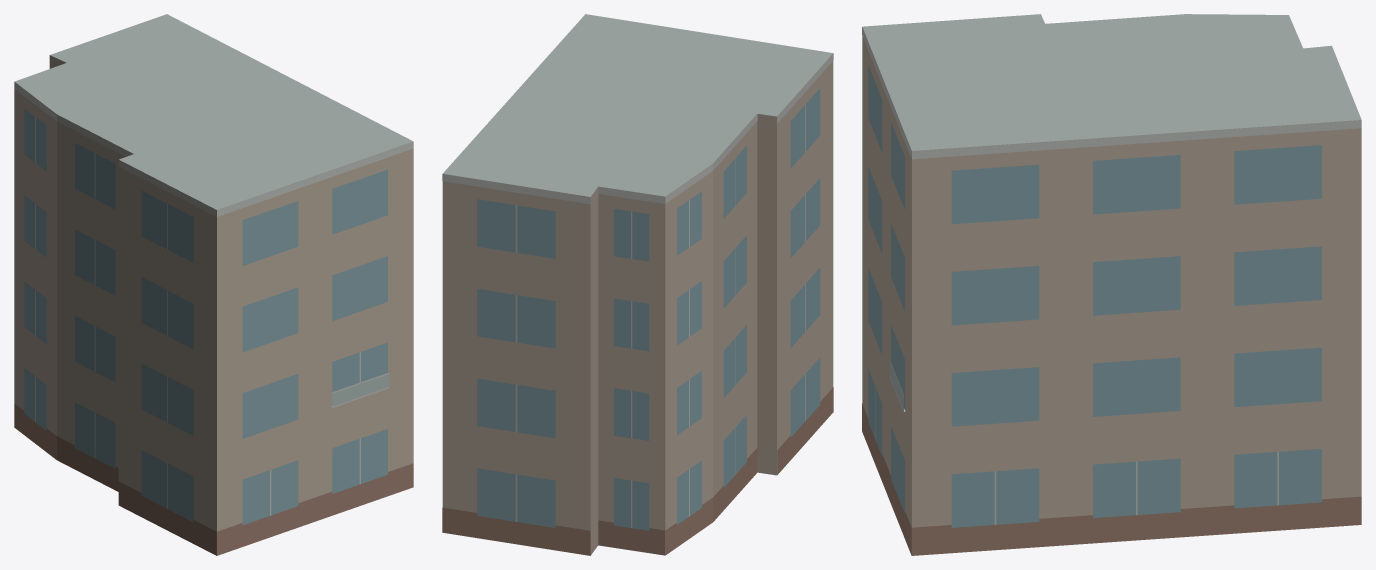
The model's file is survey-upis-32621883.glb.
3 renders of one model, left to right at view 1: azimuth 30°, elevation 25°; view 2: azimuth 150°, elevation 25°; view 3: azimuth 270°, elevation 25°, orthographic. The views are drawn at different scales.
Parts seen in each view (by area): view 1: survey-upis-32621883.tmp; view 2: survey-upis-32621883.tmp; view 3: survey-upis-32621883.tmp.
Part boxes in pixels (<box>): survey-upis-32621883.tmp: <box>14,14,413,555</box>; survey-upis-32621883.tmp: <box>442,14,833,555</box>; survey-upis-32621883.tmp: <box>862,14,1361,555</box>.
Size of the model in its own units: 8.64 by 11.9 by 13.32.
